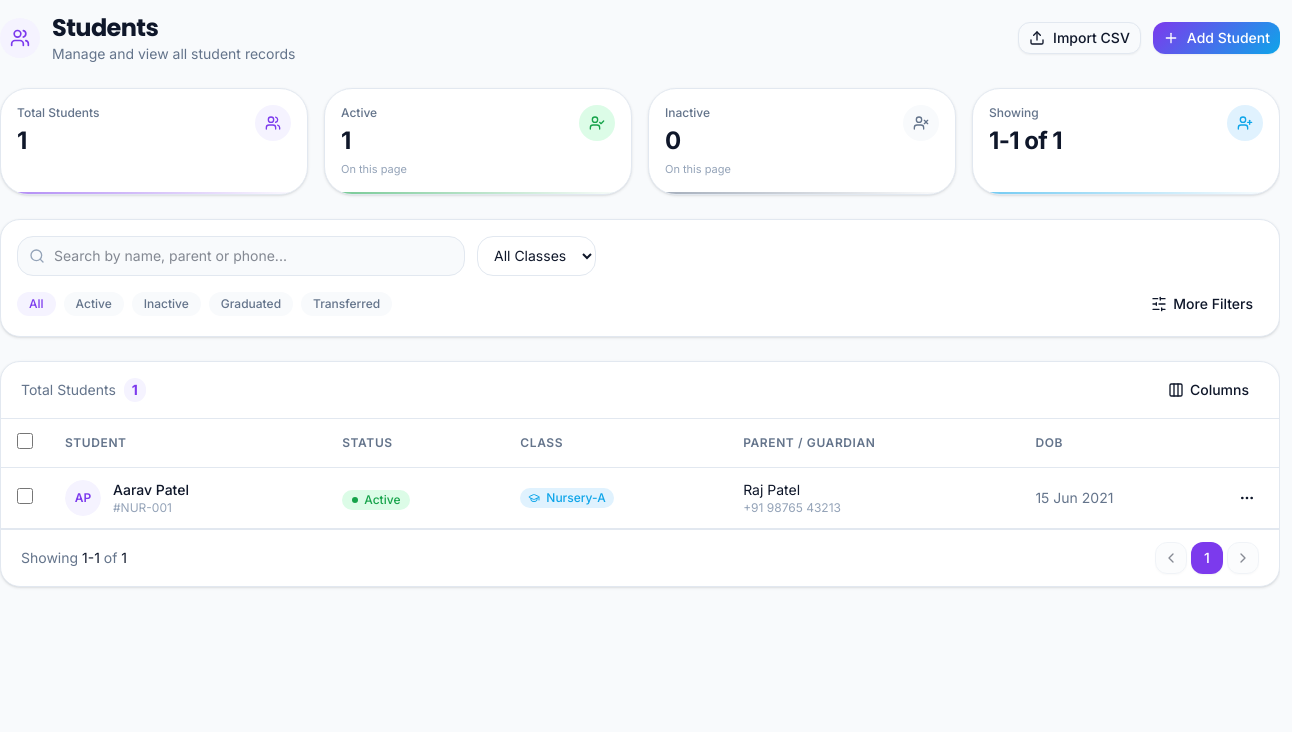
it: StudentsListPage › Filter Bar › shows "Clear Filters" when search is active
Type "Aarav" into the field with placeholder "Search by name, parent or phone...".
click(241, 256); type("Aarav")  # box [17, 236, 465, 276]
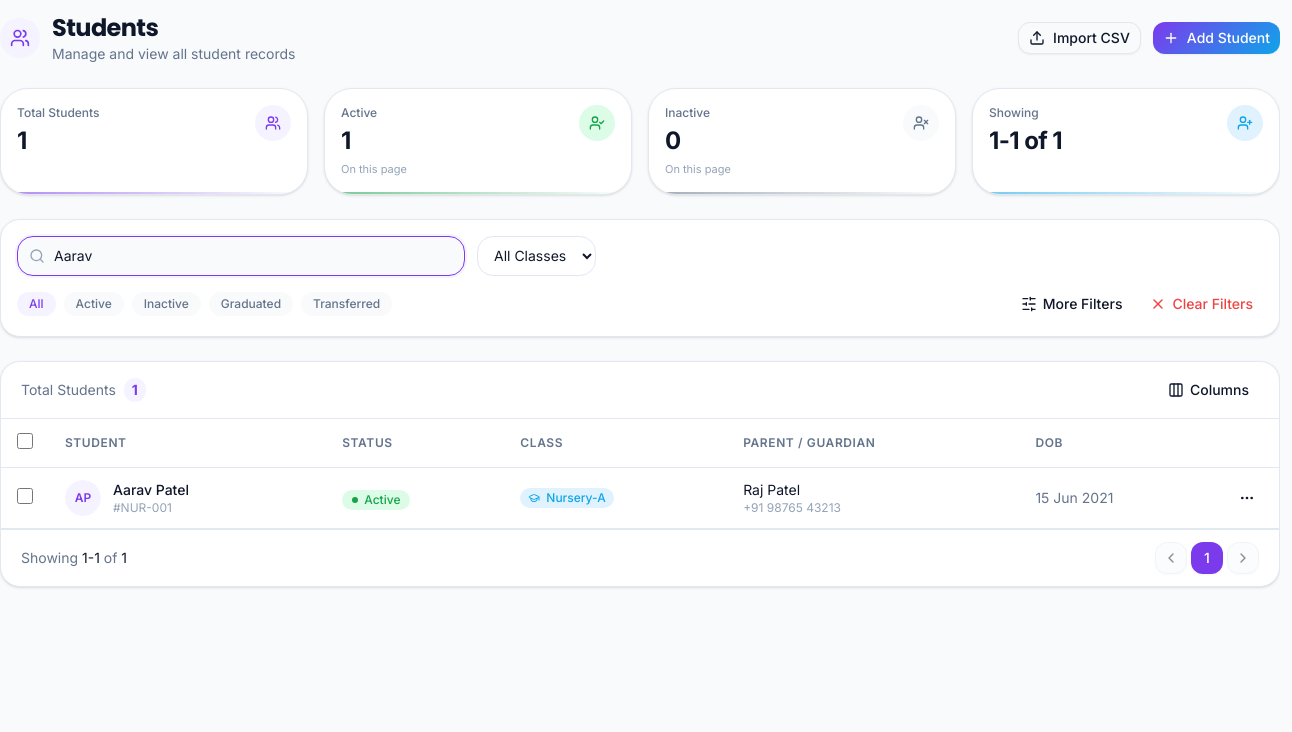
Expected: the button "Clear Filters" is shown, [1140, 288, 1263, 320]
